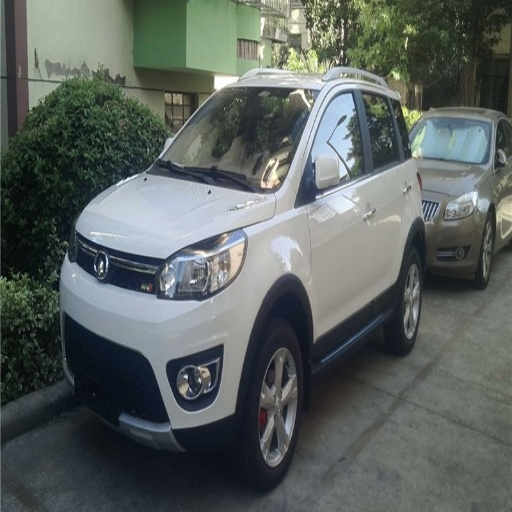front_bumper: (60, 232, 262, 447)
front_glass: (149, 86, 318, 191)
front_left_door: (303, 84, 373, 355)
